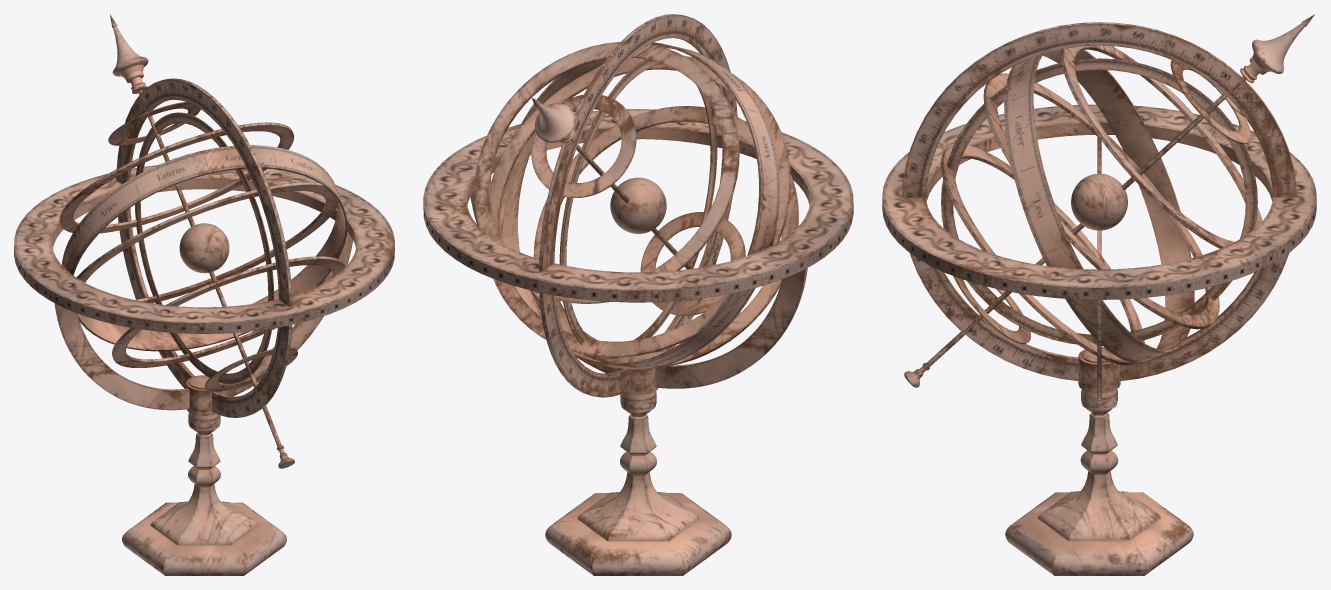
The model's file is mdl_chazzyb_sci_armillary_lowpoly.glb.
3 renders of one model, left to right at view 1: azimuth 30°, elevation 25°; view 2: azimuth 150°, elevation 25°; view 3: azimuth 270°, elevation 25°, orthographic. The views are drawn at different scales.
Parts seen in each view (by area): view 1: Lathe_2; view 2: Lathe_2; view 3: Lathe_2.
Boxes of the visible parts, box(x1,y1,x2,y2) form: Lathe_2: box(14, 14, 394, 575); Lathe_2: box(423, 14, 853, 575); Lathe_2: box(882, 14, 1316, 575).
Bounding box in the file's own units: 0.3589 × 0.4822 × 0.3589.
Materials: 1 (1 with a texture image).
